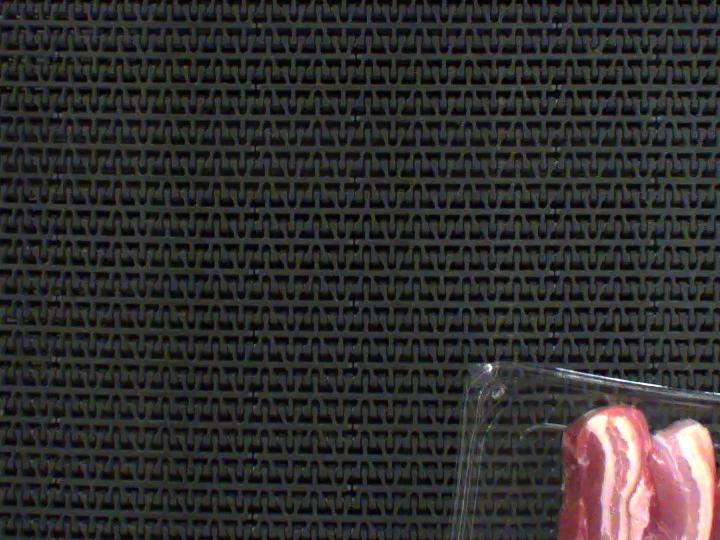packaging-error: (598, 387, 639, 409)
